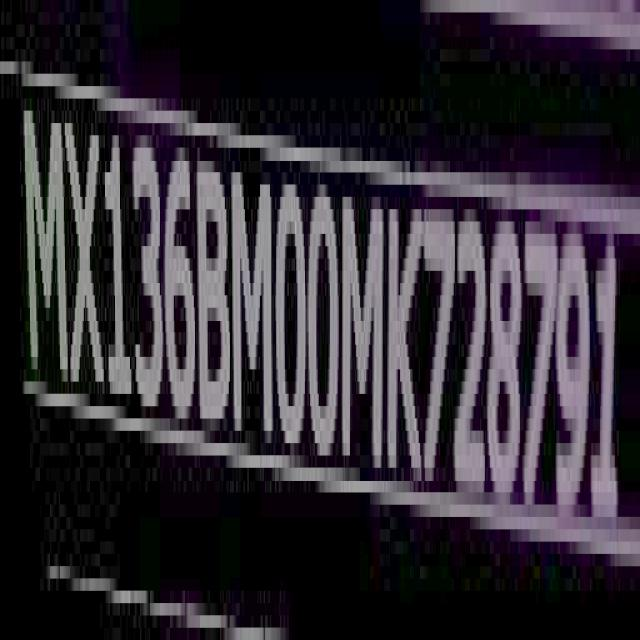0: (310, 180, 341, 473), (277, 172, 306, 464)
1: (598, 222, 621, 528), (106, 116, 128, 417)
2: (458, 203, 487, 503)
3: (135, 128, 163, 424)
6: (165, 146, 197, 428)
7: (525, 207, 556, 516), (422, 197, 452, 499)
8: (490, 206, 523, 510)
9: (557, 221, 588, 524)
B: (202, 145, 232, 444)
K: (388, 184, 420, 477)
M: (22, 91, 68, 406), (344, 185, 384, 480), (234, 156, 273, 456)
X: (68, 93, 105, 407)
